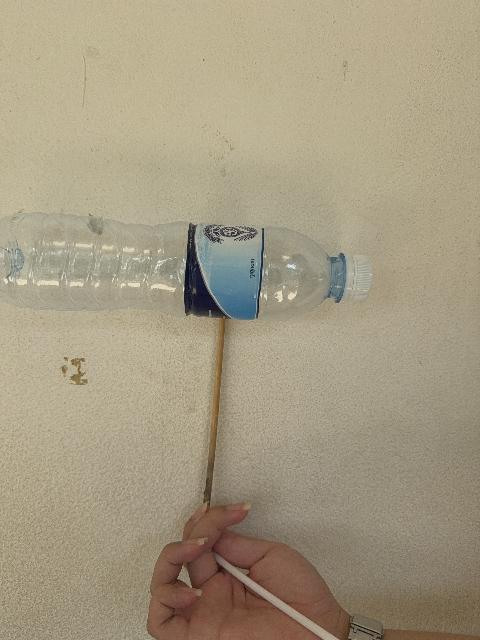bottle: (0, 214, 371, 320)
